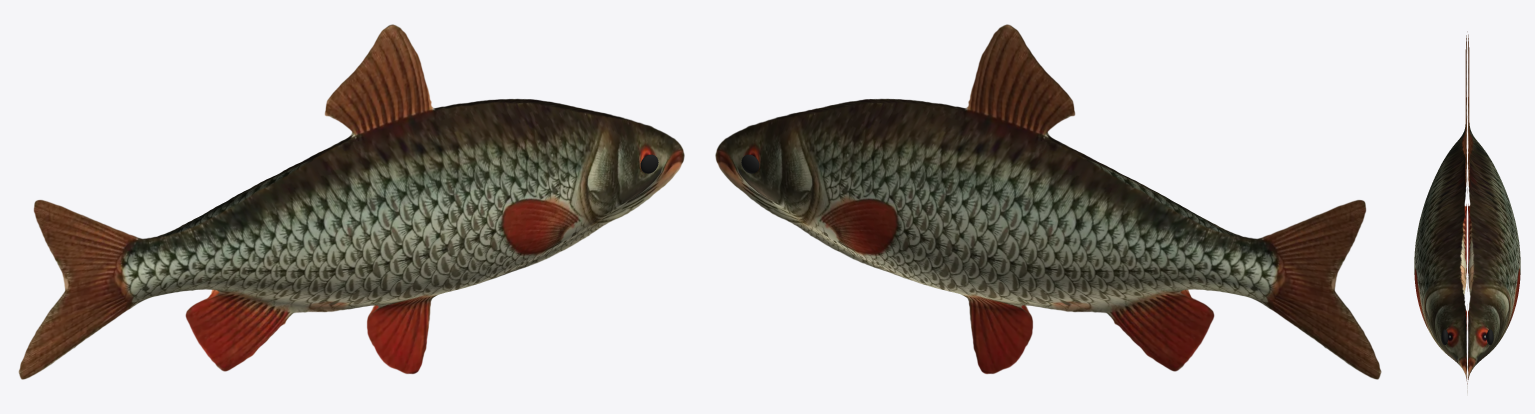
File: gardon.glb
3 renders of one model, left to right at view 1: azimuth 30°, elevation 25°; view 2: azimuth 150°, elevation 25°; view 3: azimuth 270°, elevation 25°, orthographic. The views are drawn at different scales.
Visible parts, largest first — view 1: gardon; view 2: gardon; view 3: gardon.
Boxes of the visible parts, x1,y1,x2,y2 form: gardon: [18, 24, 684, 379]; gardon: [715, 24, 1381, 379]; gardon: [1414, 31, 1520, 392].
Size of the model in its own units: 1 by 0.5161 by 0.1752.
Materials: 2 (1 with a texture image).
